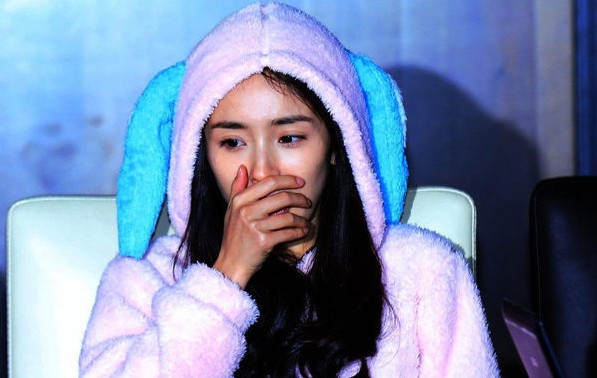face: (208, 76, 324, 228)
